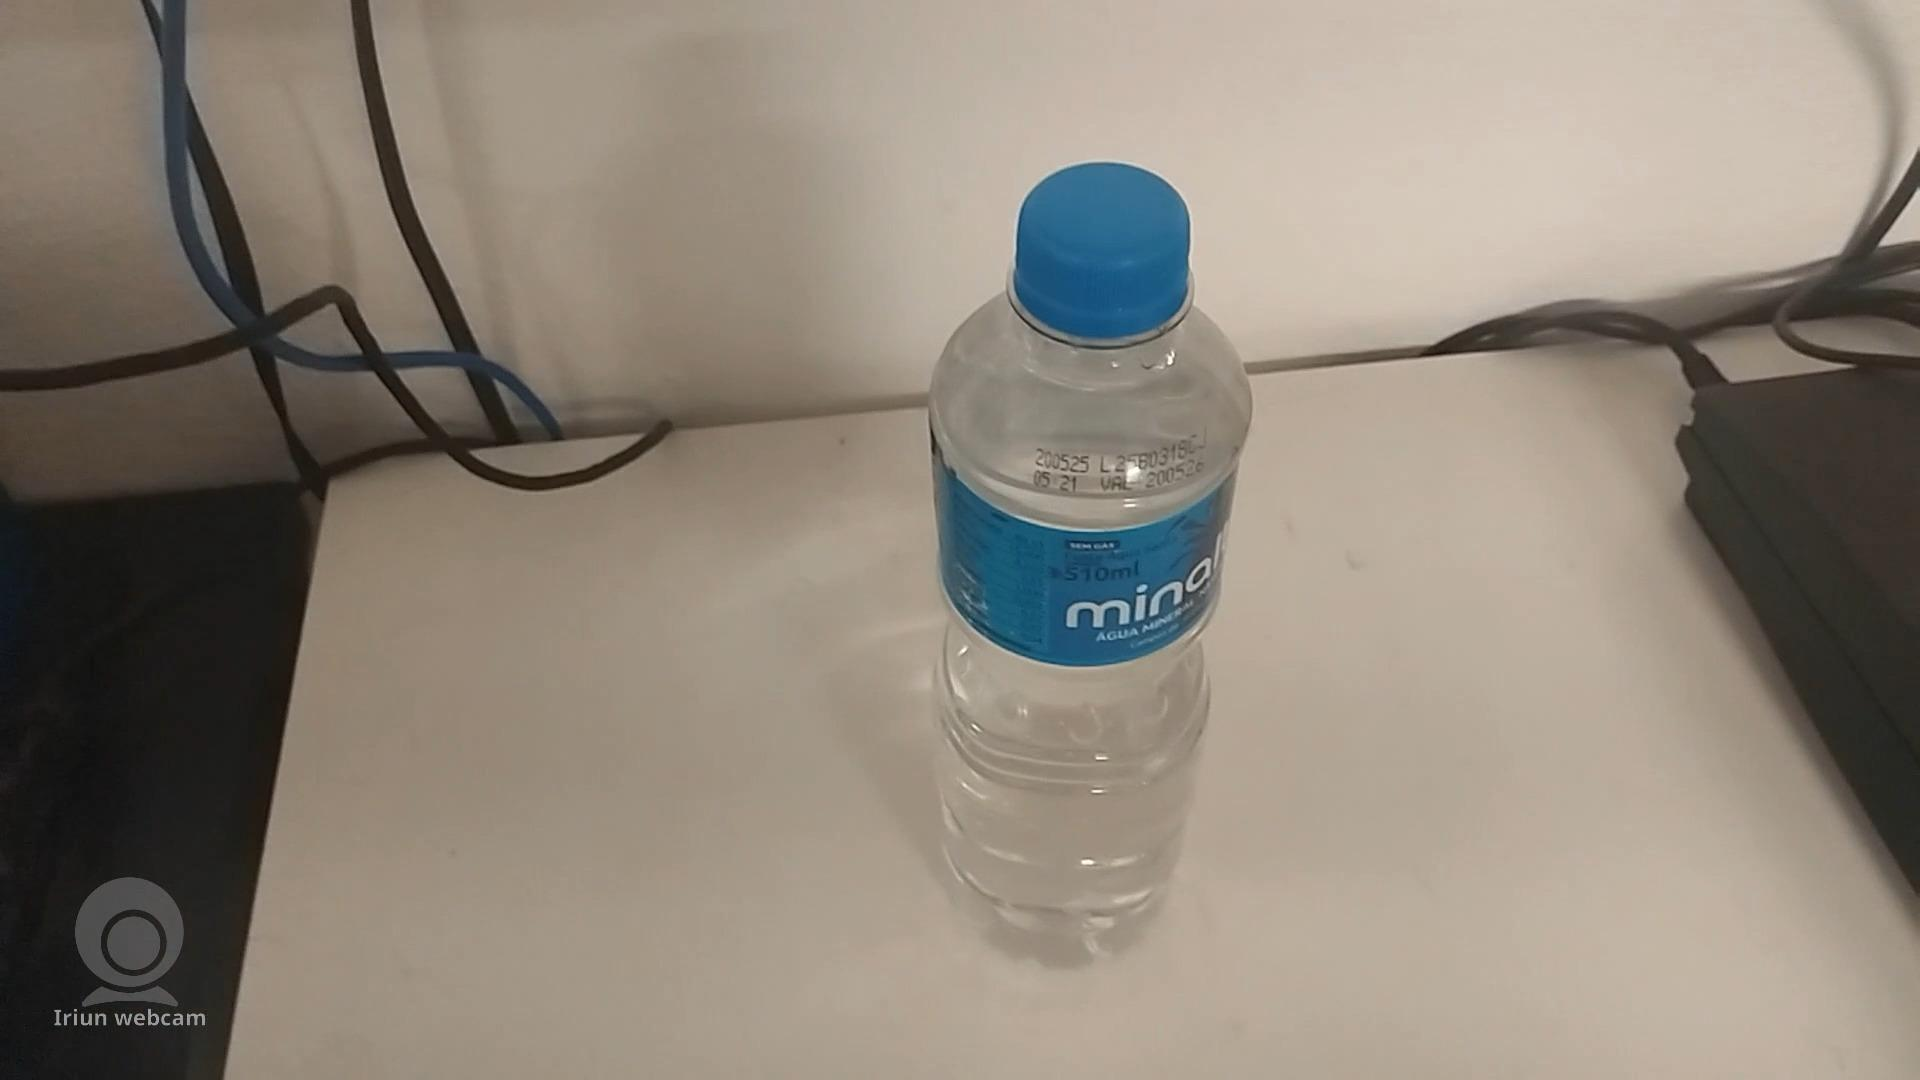agua: (924, 158, 1242, 934)
